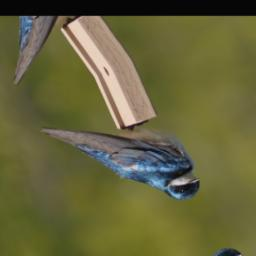Swallow: (37, 76, 213, 241)
